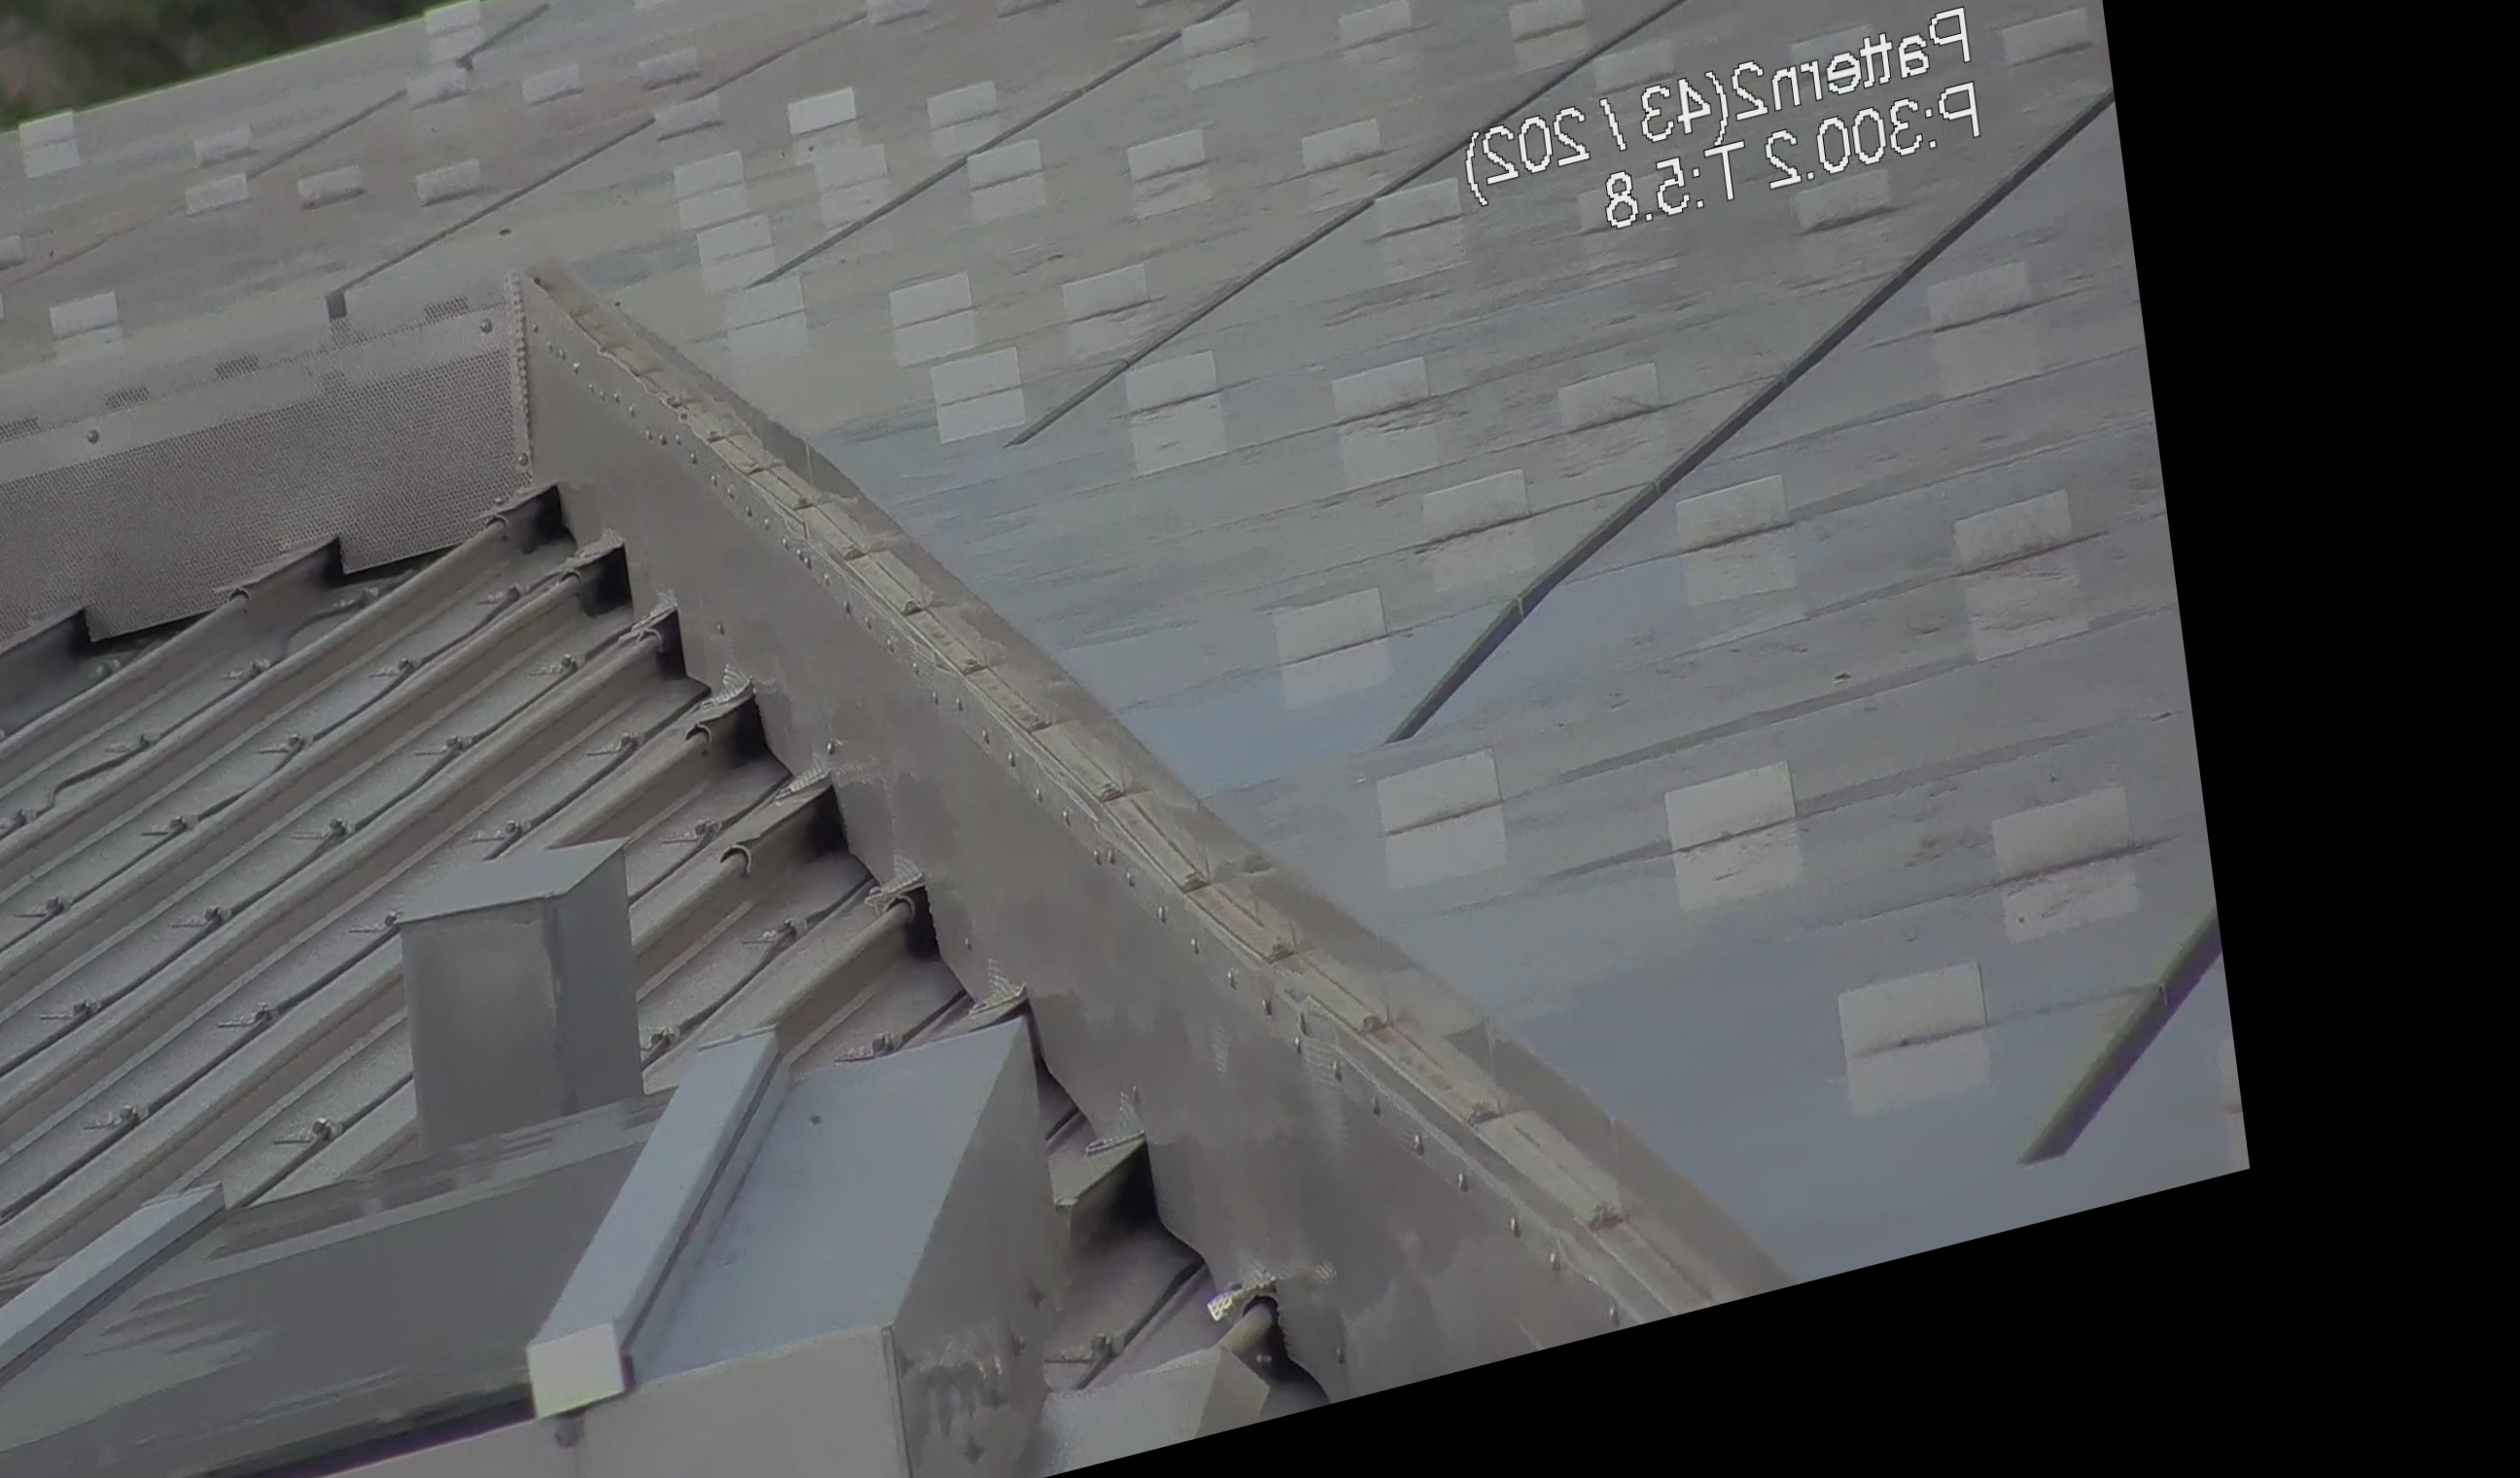Other: (1189, 1240, 1359, 1478)
